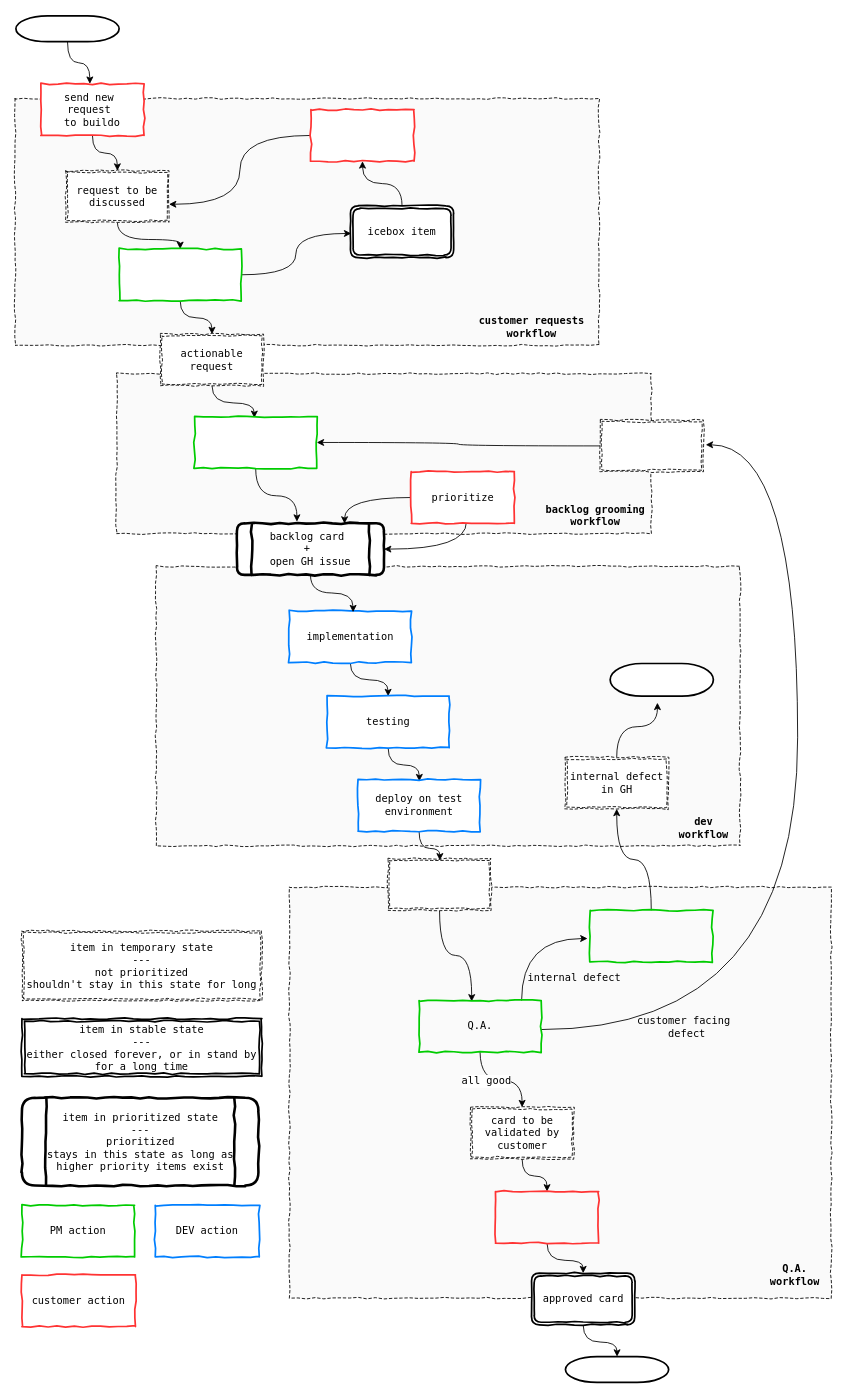
This 852x1398 diagram has some shape labels left out. Here are the shapes that lost their labels. From the top down, the centre of each, then its label:
At (67,28): "start".
At (362,135): "recover request from icebox".
At (180,274): "requirements gathering with customer".
At (255,442): "prepare for dev".
At (652,445): "PM defect buffer".
At (661,679): "outside of PRISMA flow".
At (439,884): "done card (and closed GH issue)".
At (651,935): "open defect only in GH".
At (546,1217): "customer validation".
At (616,1369): "end".
